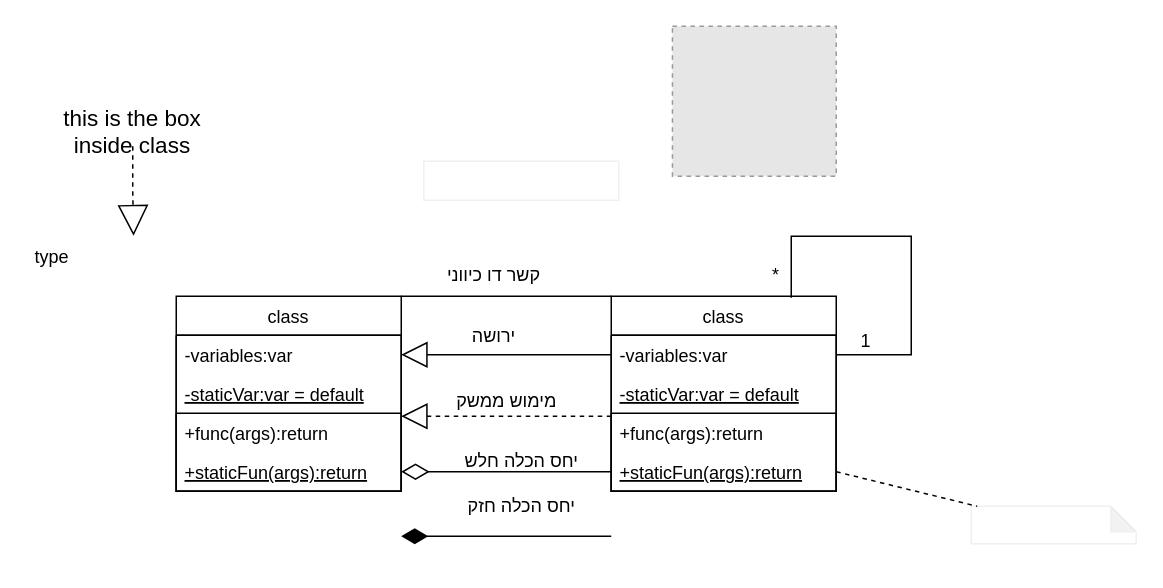
The diagram is 1163 pixels wide and 588 high, and some of its shapes have lost their labels. Grey dashed boxes stand in for pictures. Each missing label, with the centre of its shape:
copy needed stuff: the point at 520,180
throw exeption: the point at 1053,524
